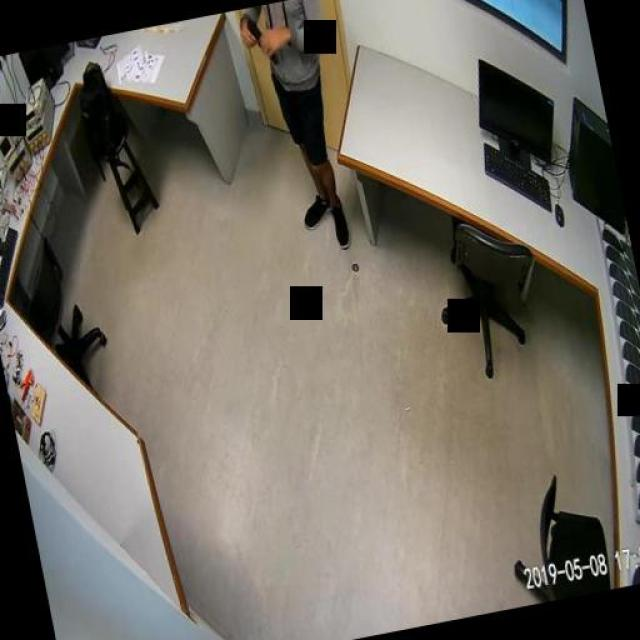gun: (242, 12, 276, 66)
